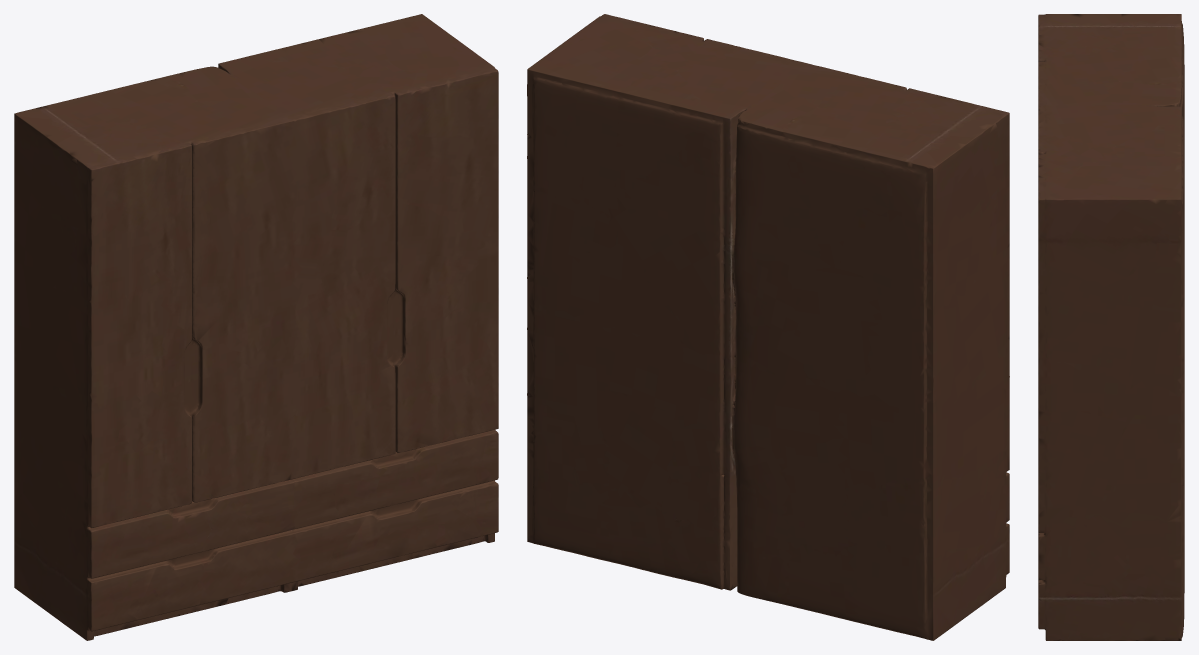
File: drobe-3-180.glb
3 renders of one model, left to right at view 1: azimuth 30°, elevation 25°; view 2: azimuth 150°, elevation 25°; view 3: azimuth 270°, elevation 25°, orthographic. The views are drawn at different scales.
Parts seen in each view (by area): view 1: Meshy_AI_Walnut_Wardrobe_Chest_20261119_texture; view 2: Meshy_AI_Walnut_Wardrobe_Chest_20261119_texture; view 3: Meshy_AI_Walnut_Wardrobe_Chest_20261119_texture.
Boxes of the visible parts, left/top/right/bottom form: Meshy_AI_Walnut_Wardrobe_Chest_20261119_texture: left=14, top=14, right=498, bottom=640; Meshy_AI_Walnut_Wardrobe_Chest_20261119_texture: left=527, top=14, right=1009, bottom=640; Meshy_AI_Walnut_Wardrobe_Chest_20261119_texture: left=1038, top=14, right=1184, bottom=640.
Bounding box in the file's own units: 1.8 × 2 × 0.6.
1 material, 1 textured.
